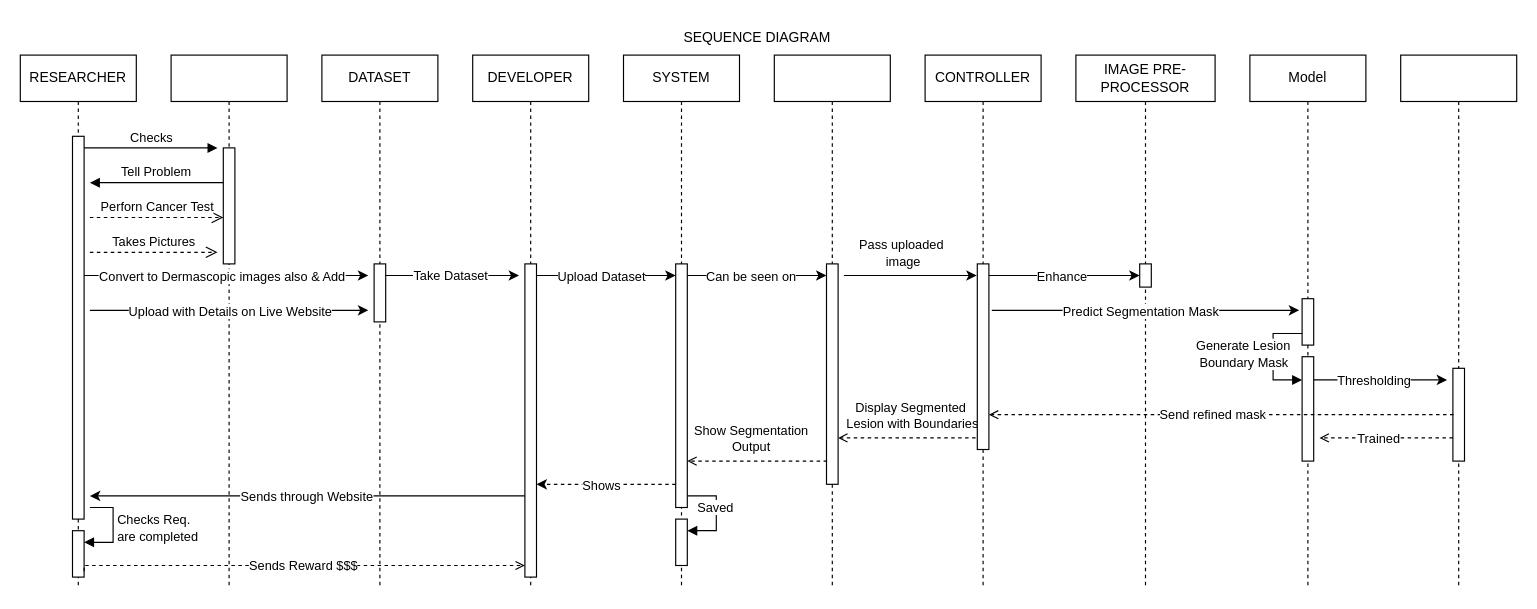
Image size: 1537x609. Some labels were removed from this diagram. The box of each missing label's shape, as (x1, y1, x2, y2) in pixels:
GUI: (773, 54, 890, 589)
PATIENT: (170, 54, 287, 589)
POST-PROCESSOR: (1400, 54, 1517, 589)
